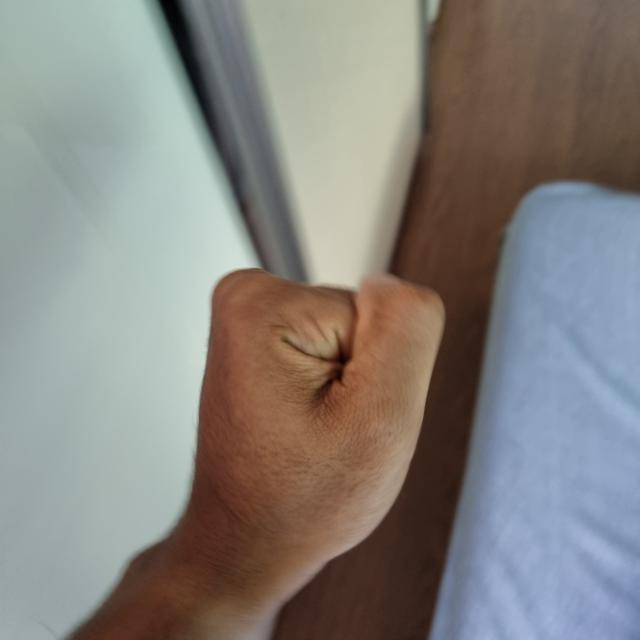Rock: (414, 0, 639, 259)
